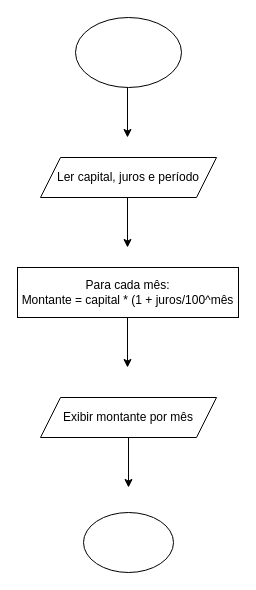
Image size: 256x590. Some labels were removed from this diagram. Each missing label, with the box of its shape:
Fim: (82, 512, 174, 572)
Início: (74, 16, 182, 88)
